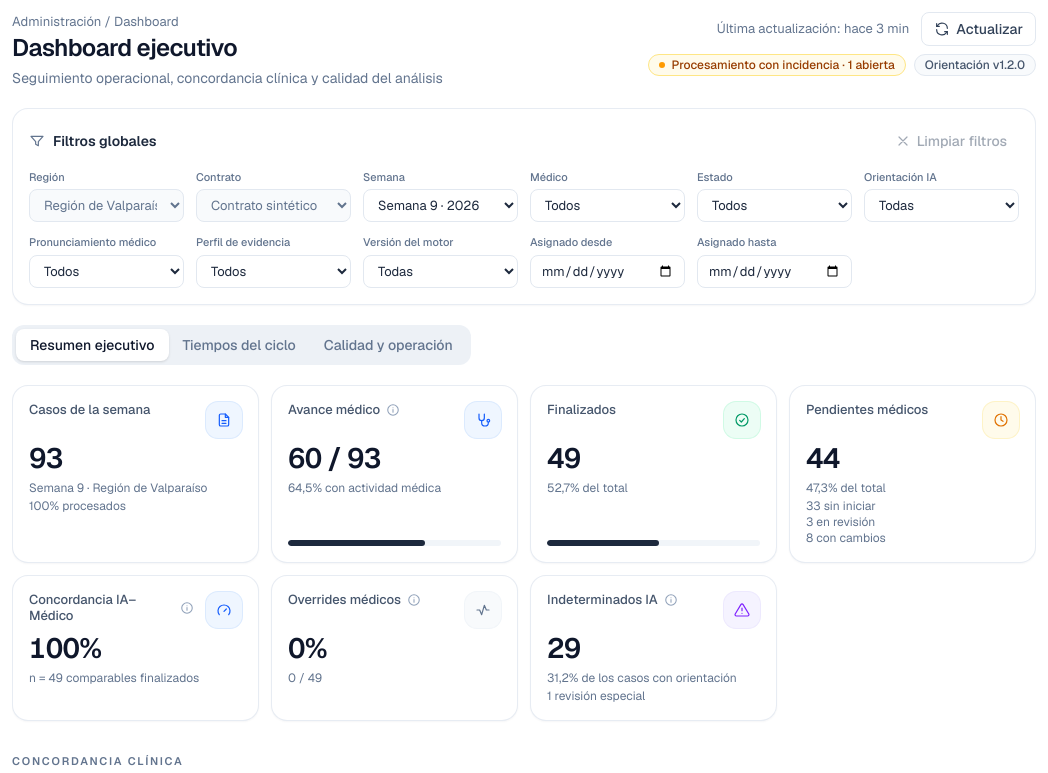
Test: Dashboard ejecutivo · tiempos del ciclo › I · tiempo operacional hasta ratificación: 84,4 min de mediana, con P75/P90 y n
Expected: the element "Finalizados" is shown, 530,385 -> 777,563
Click the tab "Tiempos del ciclo" at (239, 345), box 168,329 -> 310,361
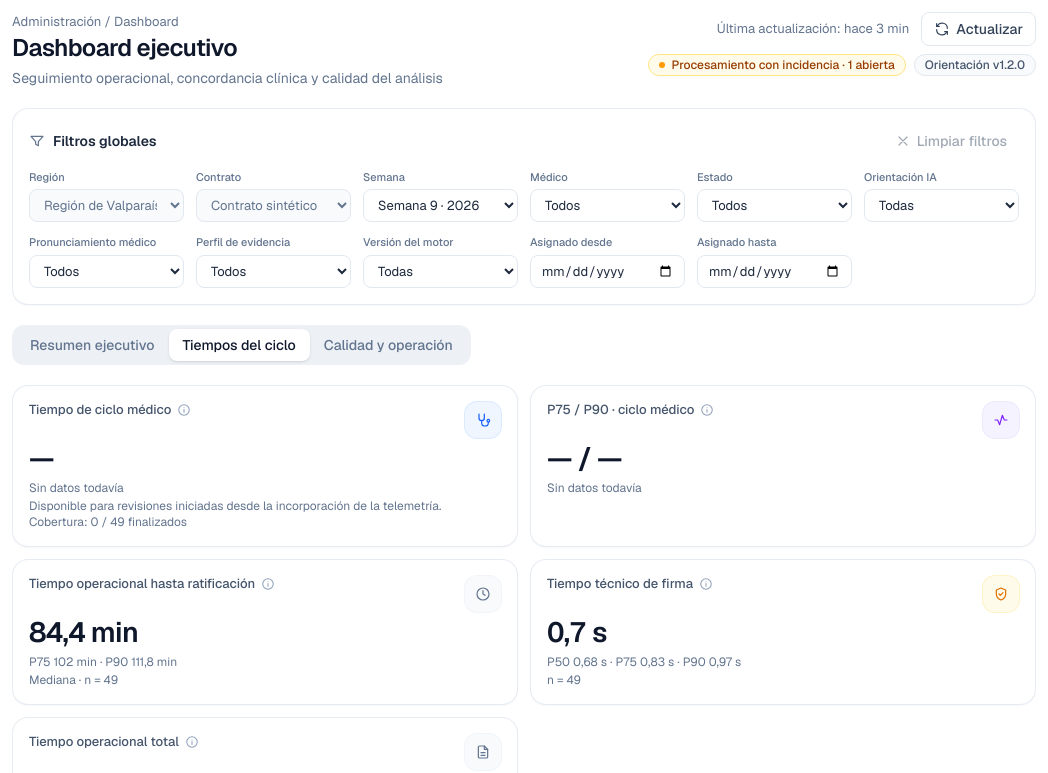
Now the text "84,4 min" below "Tiempo operacional hasta ratificación" is shown, box 29,614 -> 138,650
Now the text "P75 102 min · P90 111,8 min" is shown, box 29,654 -> 177,670
Now the text "Mediana · n = 49" is shown, box 29,672 -> 118,688
